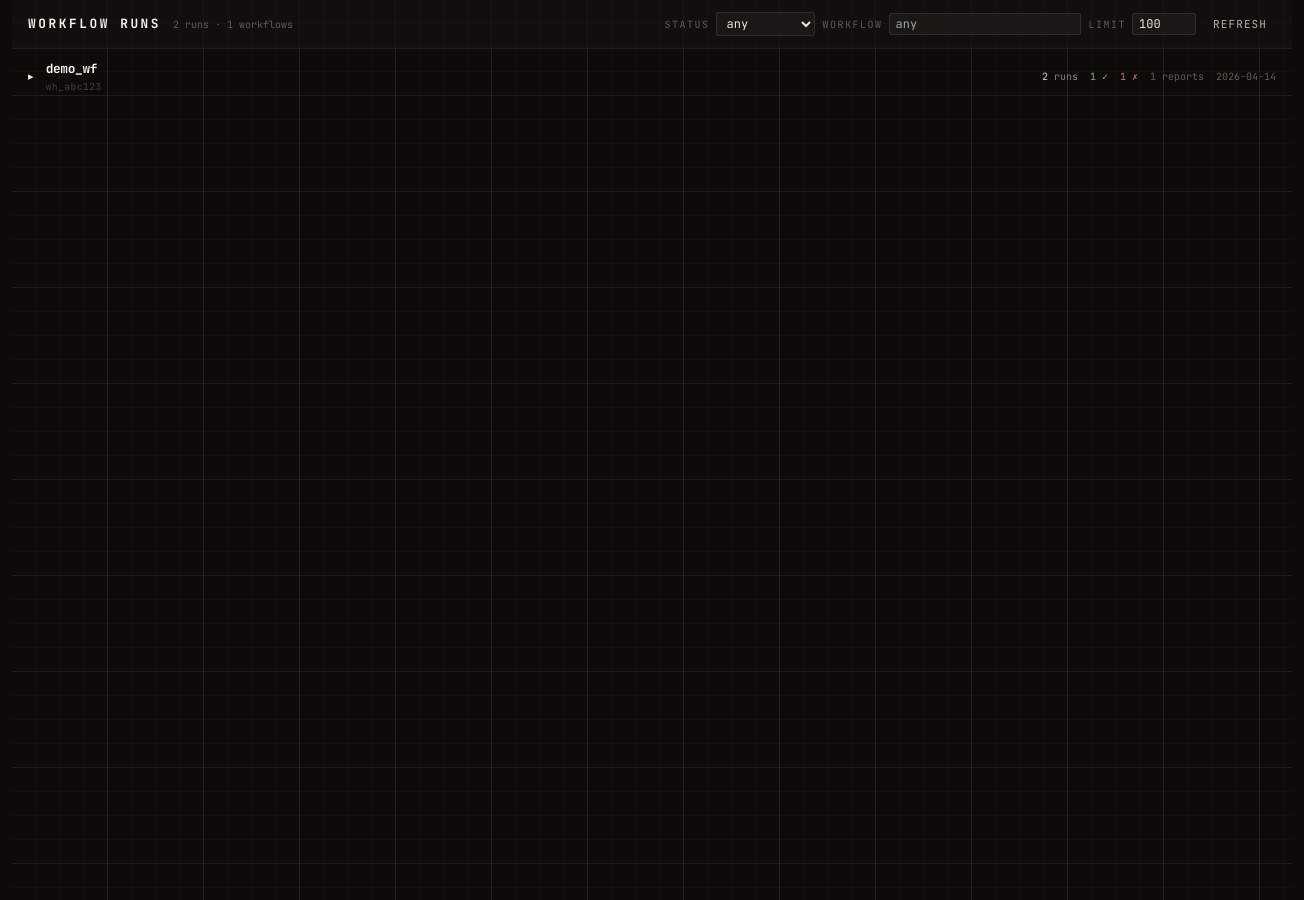
Test: RunsIndex › groups runs by workflow and expands to show individual runs
The image size is (1304, 900).
Expected: the text "2 runs · 1 workflows" is shown, [173,16,293,32]
Expected: the text "run_alpha" is not shown
What coordinates should you click on to do the following:
click the text "demo_wf"
I would click on:
 (71, 68)
Its box is [46,60,97,77].
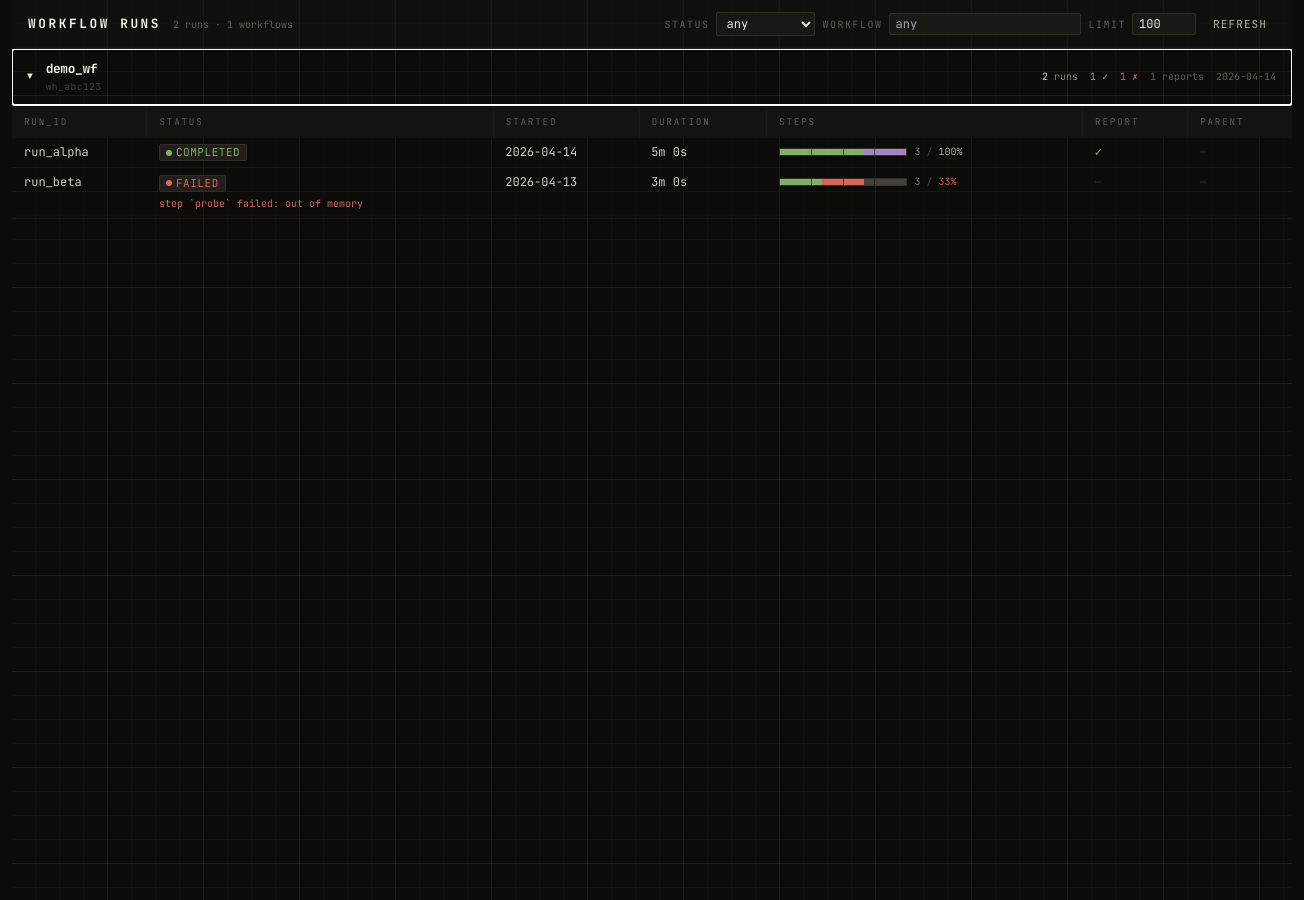
Result: the link "run_alpha" is shown at [24,144,89,160]
Result: the link "run_beta" is shown at [24,174,82,190]
Result: the text "step `probe` failed: out of memory" is shown at [159,197,363,210]
